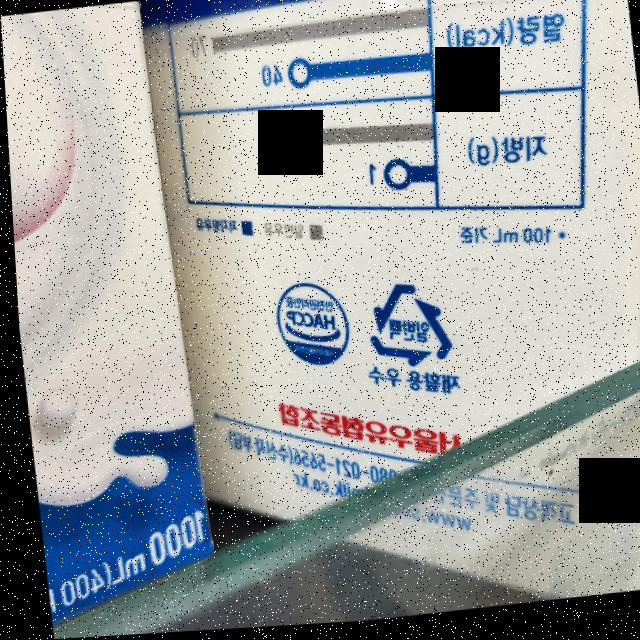NormalPack: (356, 275, 453, 377)
